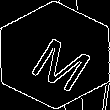M_NE: (18, 22, 92, 88)
